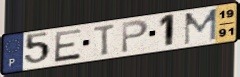1: (157, 13, 175, 49)
5: (23, 30, 52, 67)
E: (53, 27, 83, 64)
M: (183, 7, 219, 47)
P: (120, 19, 150, 55)
T: (92, 23, 117, 57)
